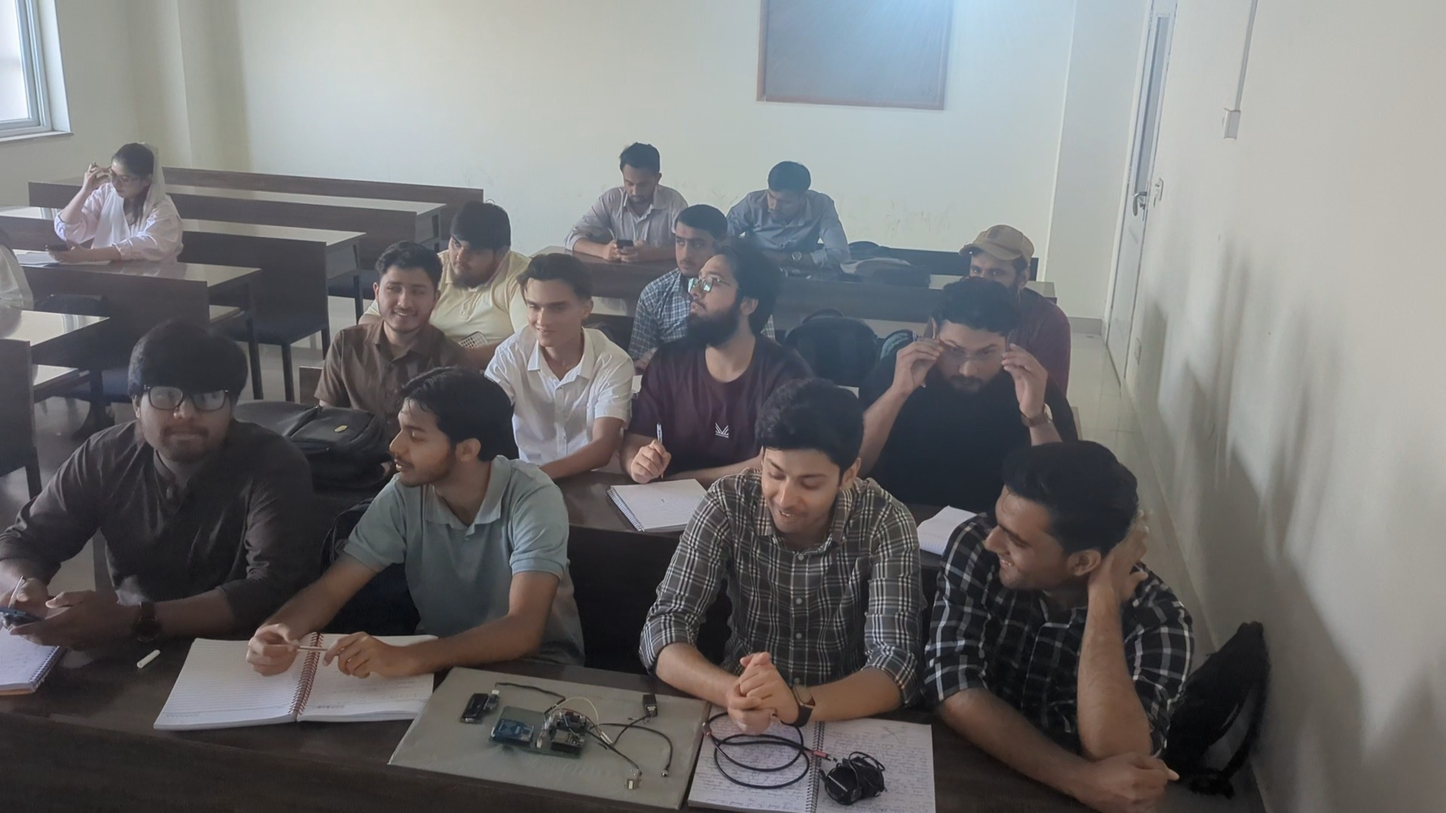look_forward: (344, 373, 587, 620), (76, 329, 318, 551), (491, 255, 643, 434), (656, 261, 828, 413), (326, 237, 473, 394), (926, 217, 1048, 284), (653, 204, 719, 286)
read: (413, 179, 527, 310), (750, 158, 873, 262)
sleep: (721, 394, 918, 677), (889, 276, 1075, 431)
turn_head: (956, 418, 1183, 685)
using_device: (43, 129, 221, 267), (570, 109, 663, 260)
